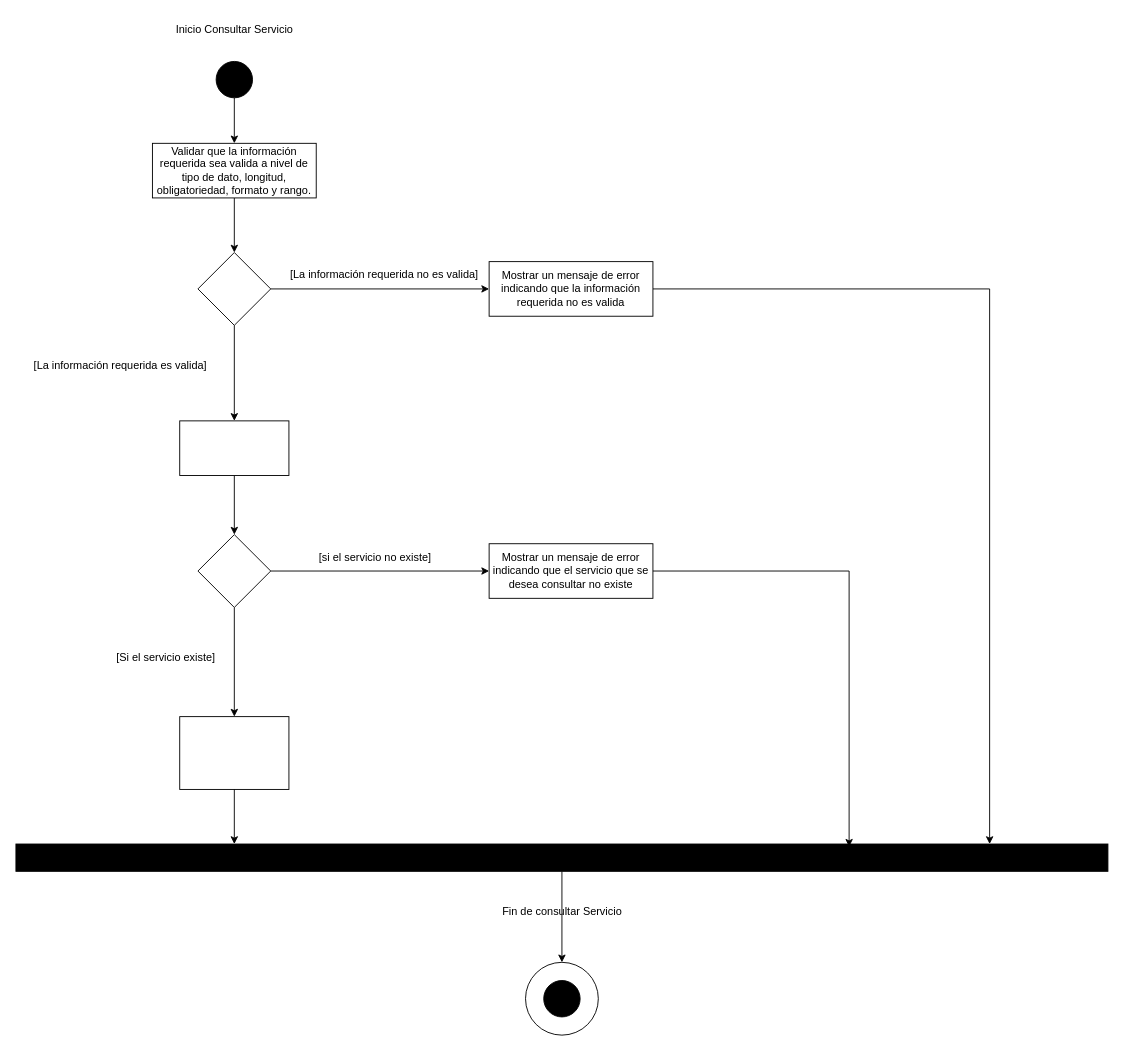
This 1124x1051 diagram has some shape labels left out. Here are the shapes that lost their labels. From the top down, the centre of each, then its label:
At (x=234, y=447): "Validar si el servicio que se quiere consultar existe".
At (x=234, y=752): "Mostrar mensaje de exito indicando que el servicio se consulto exitosamente".
